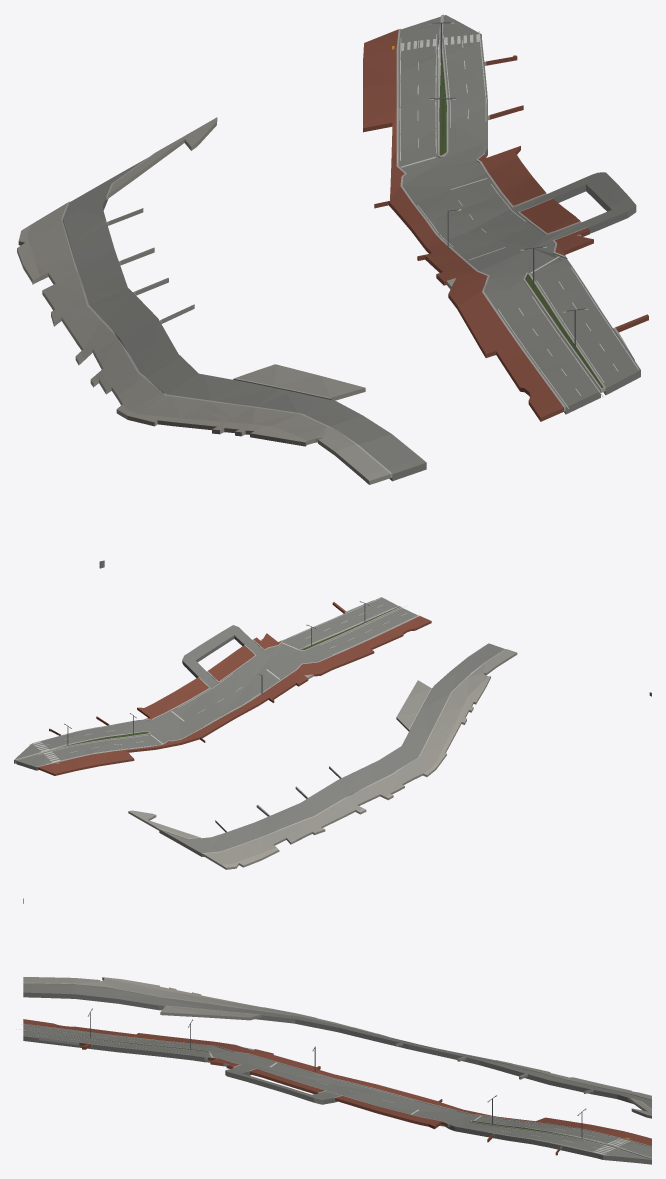
The picture shows the model from 3 angles, top to bottom: view 1: azimuth 30°, elevation 25°; view 2: azimuth 150°, elevation 25°; view 3: azimuth 270°, elevation 25°; orthographic projection. The views are drawn at different scales.
Size of the model in its own units: 147 by 34.09 by 148.
